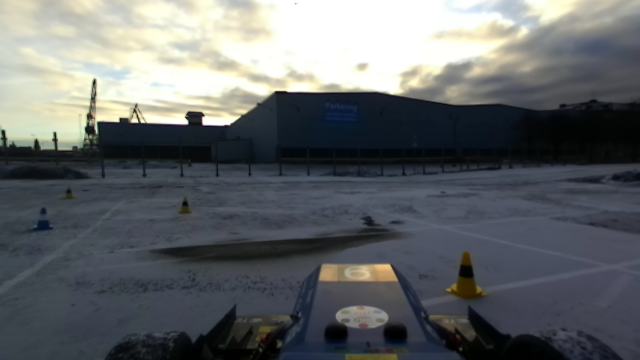blue: (28, 206, 55, 233)
yellow: (444, 247, 486, 302), (176, 194, 193, 217), (61, 185, 77, 202)
